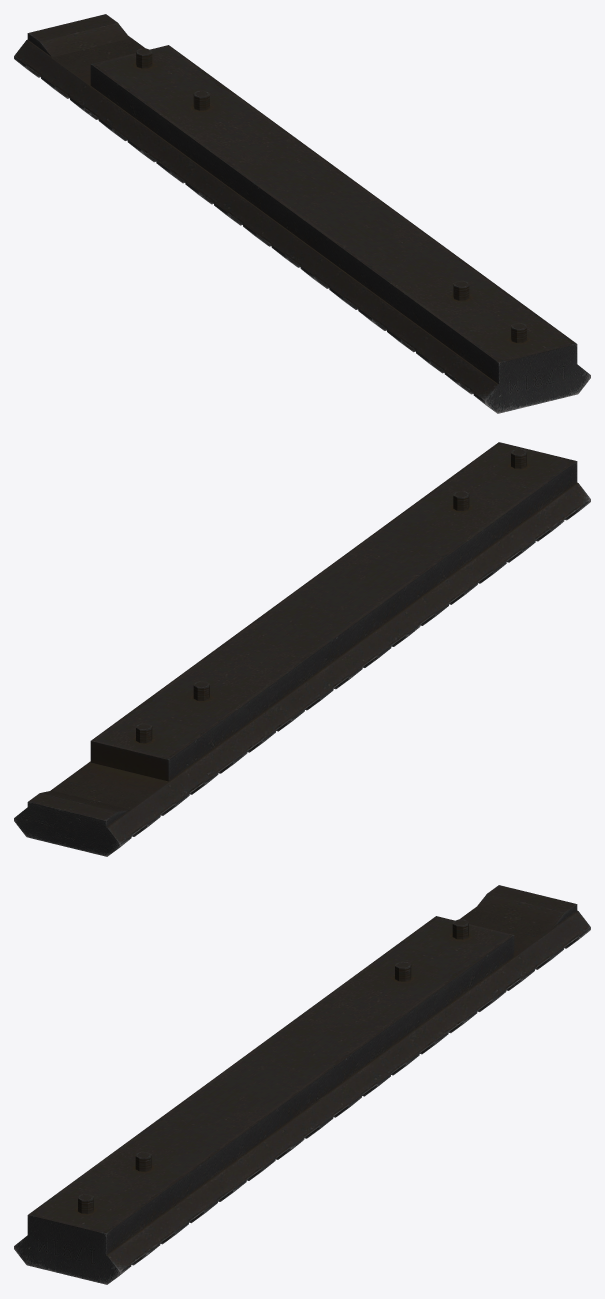
3 renders of one model, top to bottom at view 1: azimuth 30°, elevation 25°; view 2: azimuth 150°, elevation 25°; view 3: azimuth 330°, elevation 25°, orthographic.
Visible parts, largest first — view 1: TW_5df35e970b92095fd441e4d2_PZ_Import; view 2: TW_5df35e970b92095fd441e4d2_PZ_Import; view 3: TW_5df35e970b92095fd441e4d2_PZ_Import.
Part boxes in pixels (x1,y1,x2,y2): TW_5df35e970b92095fd441e4d2_PZ_Import: [14, 14, 590, 413]; TW_5df35e970b92095fd441e4d2_PZ_Import: [14, 442, 590, 856]; TW_5df35e970b92095fd441e4d2_PZ_Import: [14, 885, 590, 1284].
Bounding box in the file's own units: 0.0123 × 0.0945 × 0.00707.
1 material, 1 textured.
